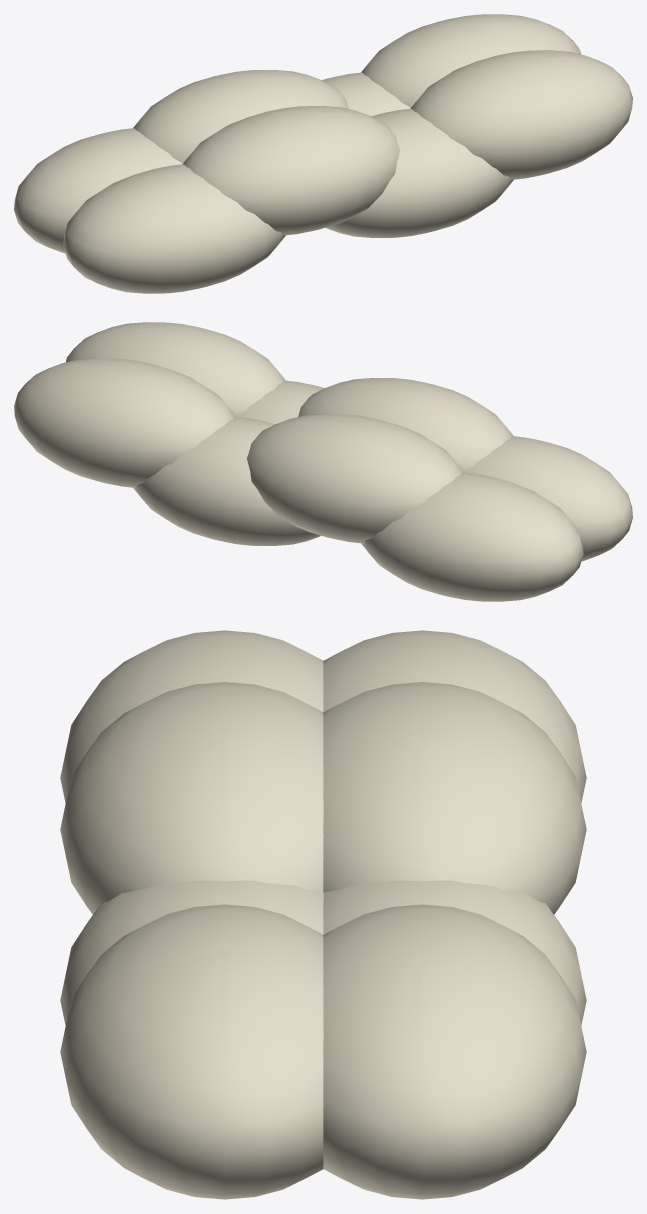
The model's file is nuvens.glb.
3 renders of one model, top to bottom at view 1: azimuth 30°, elevation 25°; view 2: azimuth 150°, elevation 25°; view 3: azimuth 270°, elevation 25°, orthographic. The views are drawn at different scales.
Visible parts, largest first — view 1: Nuvem simbólica.007, Nuvem simbólica.004, Nuvem simbólica.005, Nuvem simbólica.006, Nuvem simbólica.003, Nuvem simbólica.001, Nuvem simbólica, Nuvem simbólica.002; view 2: Nuvem simbólica.003, Nuvem simbólica, Nuvem simbólica.001, Nuvem simbólica.002, Nuvem simbólica.007, Nuvem simbólica.005, Nuvem simbólica.004, Nuvem simbólica.006; view 3: Nuvem simbólica.003, Nuvem simbólica.007, Nuvem simbólica.001, Nuvem simbólica.005, Nuvem simbólica, Nuvem simbólica.004, Nuvem simbólica.002, Nuvem simbólica.006.
Boxes of the visible parts, left/top/right/bottom form: Nuvem simbólica.007: left=410, top=50, right=632, bottom=179; Nuvem simbólica.004: left=63, top=164, right=285, bottom=293; Nuvem simbólica.005: left=182, top=106, right=399, bottom=235; Nuvem simbólica.006: left=325, top=108, right=513, bottom=237; Nuvem simbólica.003: left=361, top=14, right=580, bottom=107; Nuvem simbólica.001: left=133, top=70, right=348, bottom=163; Nuvem simbólica: left=14, top=128, right=182, bottom=253; Nuvem simbólica.002: left=322, top=72, right=410, bottom=116; Nuvem simbólica.003: left=14, top=358, right=236, bottom=487; Nuvem simbólica: left=361, top=472, right=583, bottom=601; Nuvem simbólica.001: left=247, top=414, right=464, bottom=543; Nuvem simbólica.002: left=133, top=416, right=321, bottom=545; Nuvem simbólica.007: left=66, top=322, right=285, bottom=415; Nuvem simbólica.005: left=298, top=378, right=513, bottom=471; Nuvem simbólica.004: left=464, top=436, right=632, bottom=561; Nuvem simbólica.006: left=236, top=380, right=324, bottom=424; Nuvem simbólica.003: left=323, top=904, right=586, bottom=1199; Nuvem simbólica.007: left=60, top=904, right=323, bottom=1199; Nuvem simbólica.001: left=323, top=682, right=586, bottom=914; Nuvem simbólica.005: left=60, top=682, right=323, bottom=914; Nuvem simbólica: left=323, top=630, right=586, bottom=802; Nuvem simbólica.004: left=60, top=630, right=323, bottom=802; Nuvem simbólica.002: left=323, top=880, right=586, bottom=1025; Nuvem simbólica.006: left=60, top=880, right=323, bottom=1025.
Bounding box in the file's own units: 3.9 × 0.9 × 1.6.
